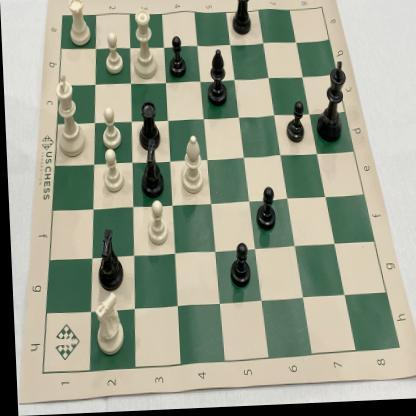black-bishop: (202, 47, 231, 115)
black-king: (309, 56, 351, 150)
black-knight: (93, 225, 124, 296), (134, 137, 165, 203)
black-pawn: (251, 184, 277, 237), (225, 242, 252, 293), (164, 34, 188, 82), (283, 101, 307, 147)
black-rook: (136, 99, 165, 160), (230, 0, 255, 44)
white-bishop: (174, 131, 205, 200)
white-king: (50, 65, 88, 163)
white-knight: (87, 289, 128, 360)
white-pawn: (140, 195, 169, 249), (98, 147, 126, 196), (95, 105, 121, 153), (102, 32, 126, 81)
white-queen: (130, 5, 160, 85)
white-rook: (64, 0, 94, 52)
